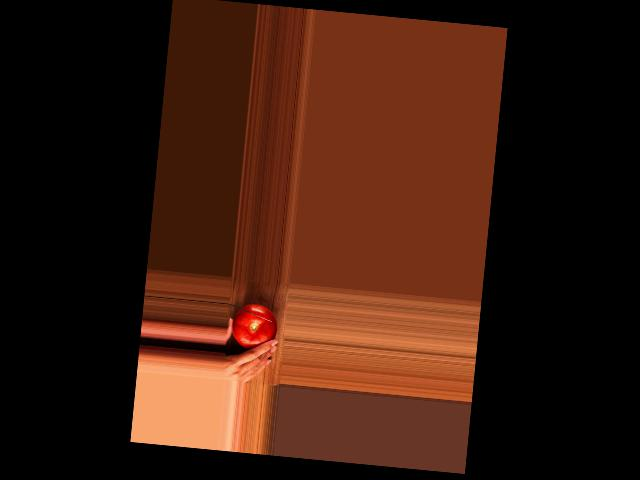tomato: (230, 302, 278, 351)
